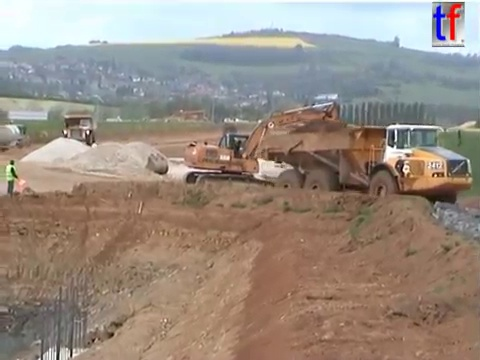excavator: (181, 98, 348, 196)
truck: (260, 119, 476, 212), (60, 111, 97, 147), (1, 120, 28, 154)
worker: (3, 157, 20, 199)
